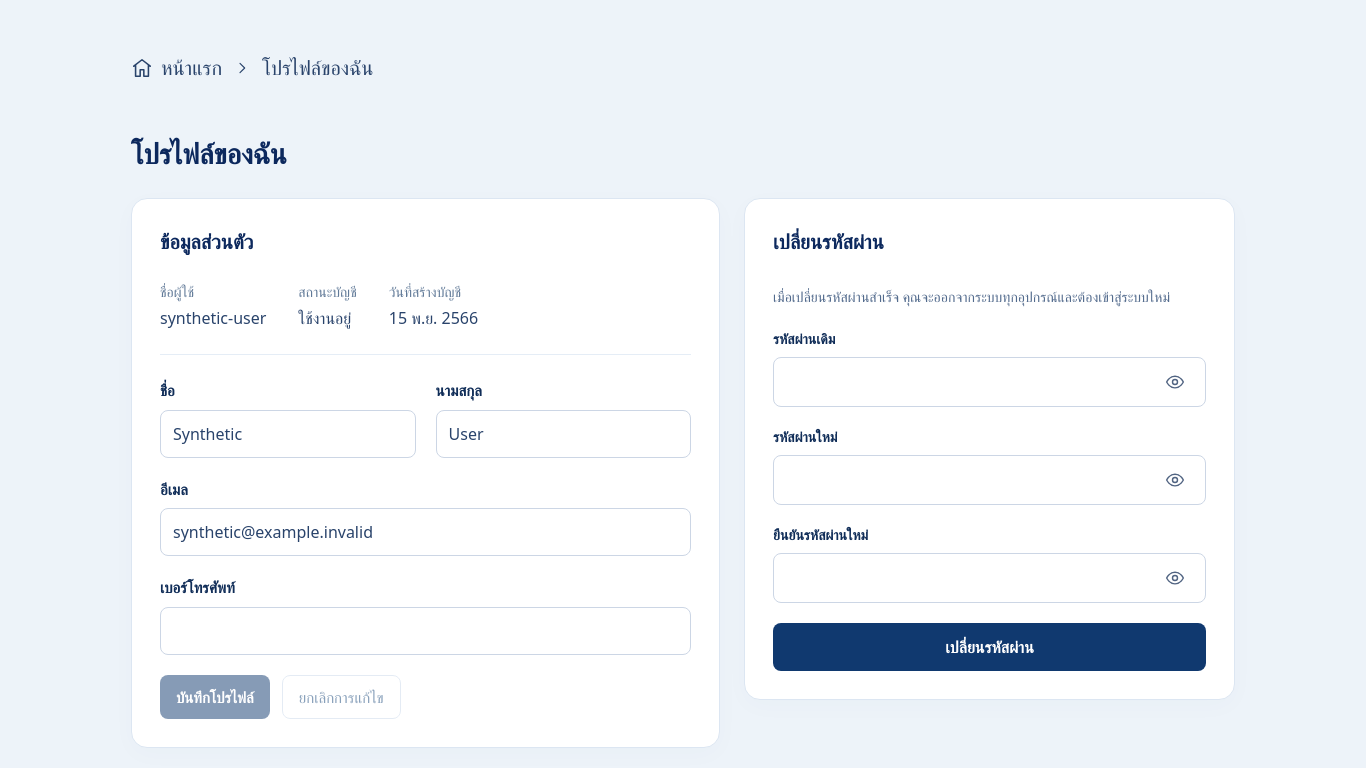
Test: loads the account, discards buffered edits, and saves only editable contract fields
The image size is (1366, 768).
expect the field labelled "เบอร์โทรศัพท์" is empty: met, box [160,606,691,654]
Replace the text in the field labelled "ชื่อ" with "Discard me" at (288, 434), box [160,410,416,458]
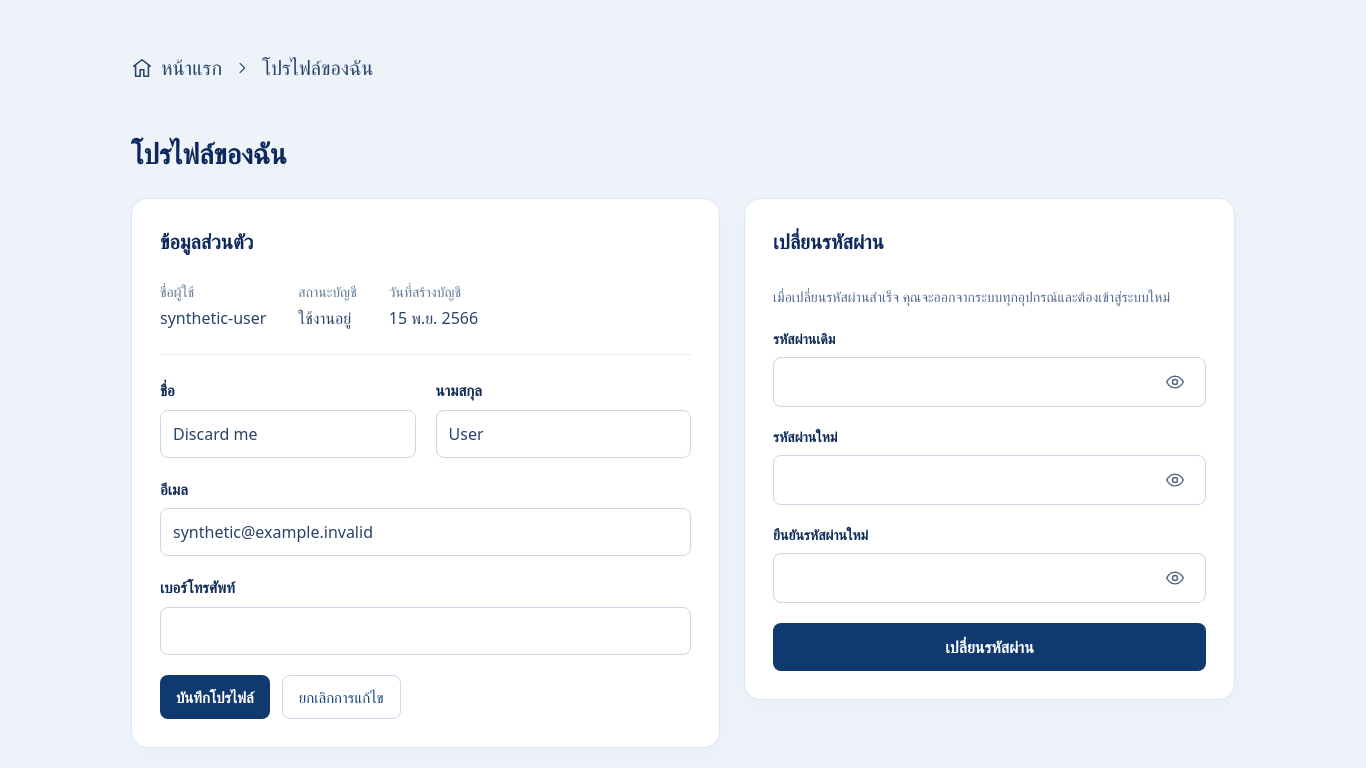
Click the button "ยกเลิกการแก้ไข" at (341, 697), box [282,674,401,719]
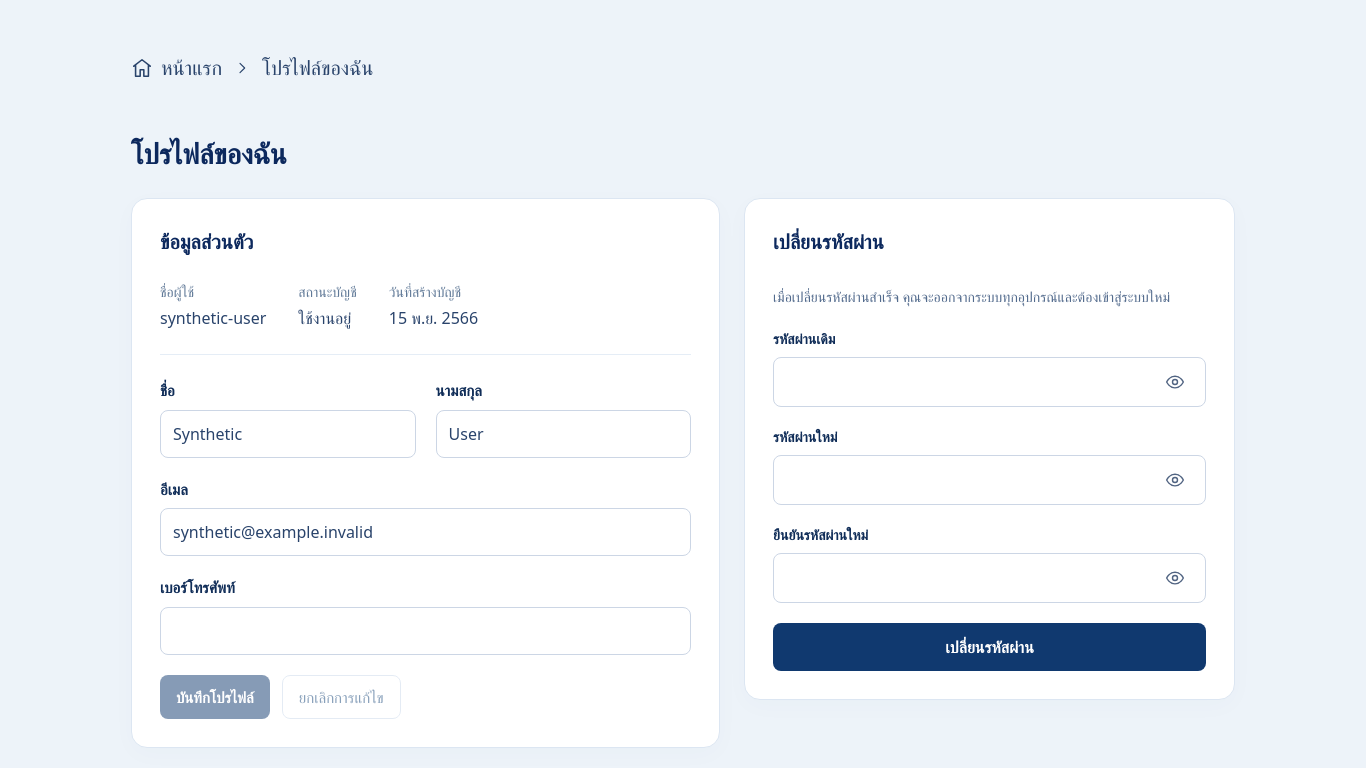
expect the field labelled "ชื่อ" holds "Synthetic": met
Replace the text in the field labelled "ชื่อ" with " Updated " at (288, 434), box [160,410,416,458]
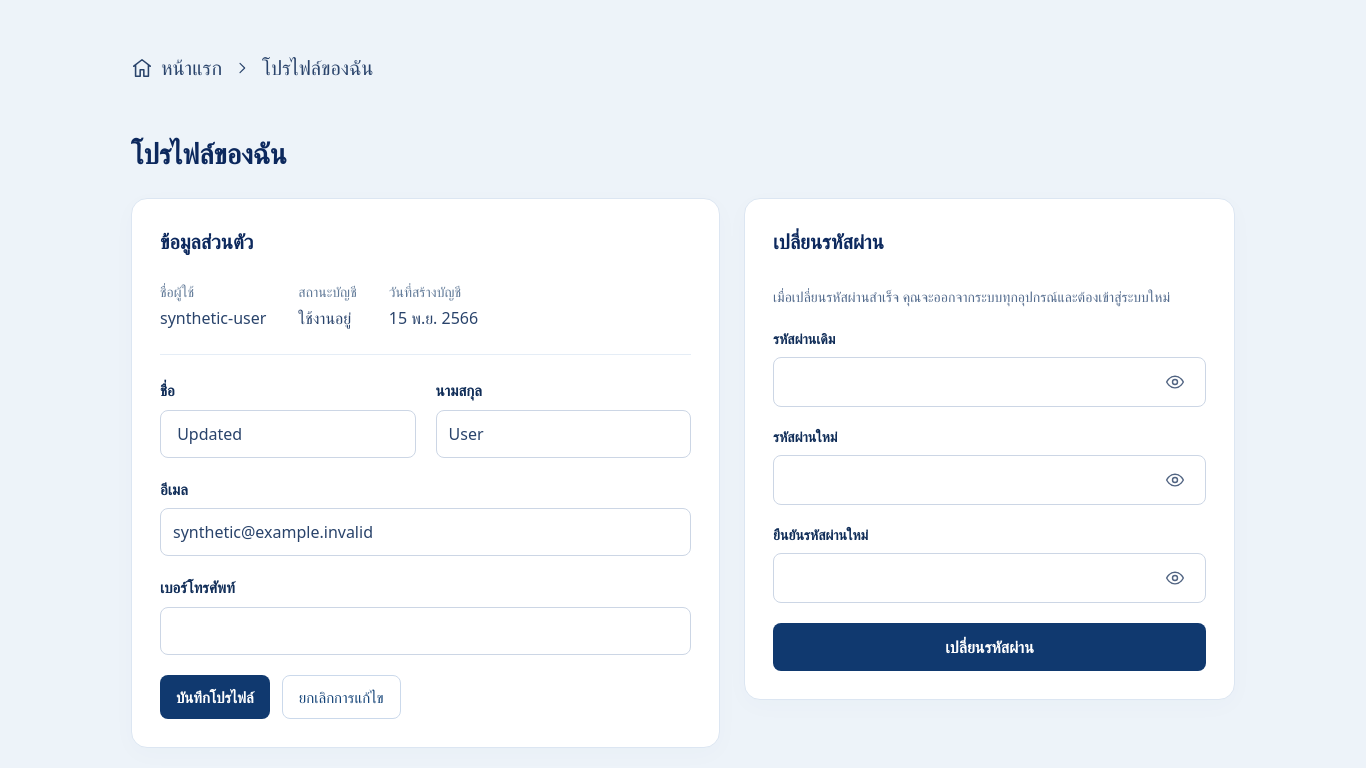
Type "000123" into the field labelled "เบอร์โทรศัพท์" at (426, 630), box [160,606,691,654]
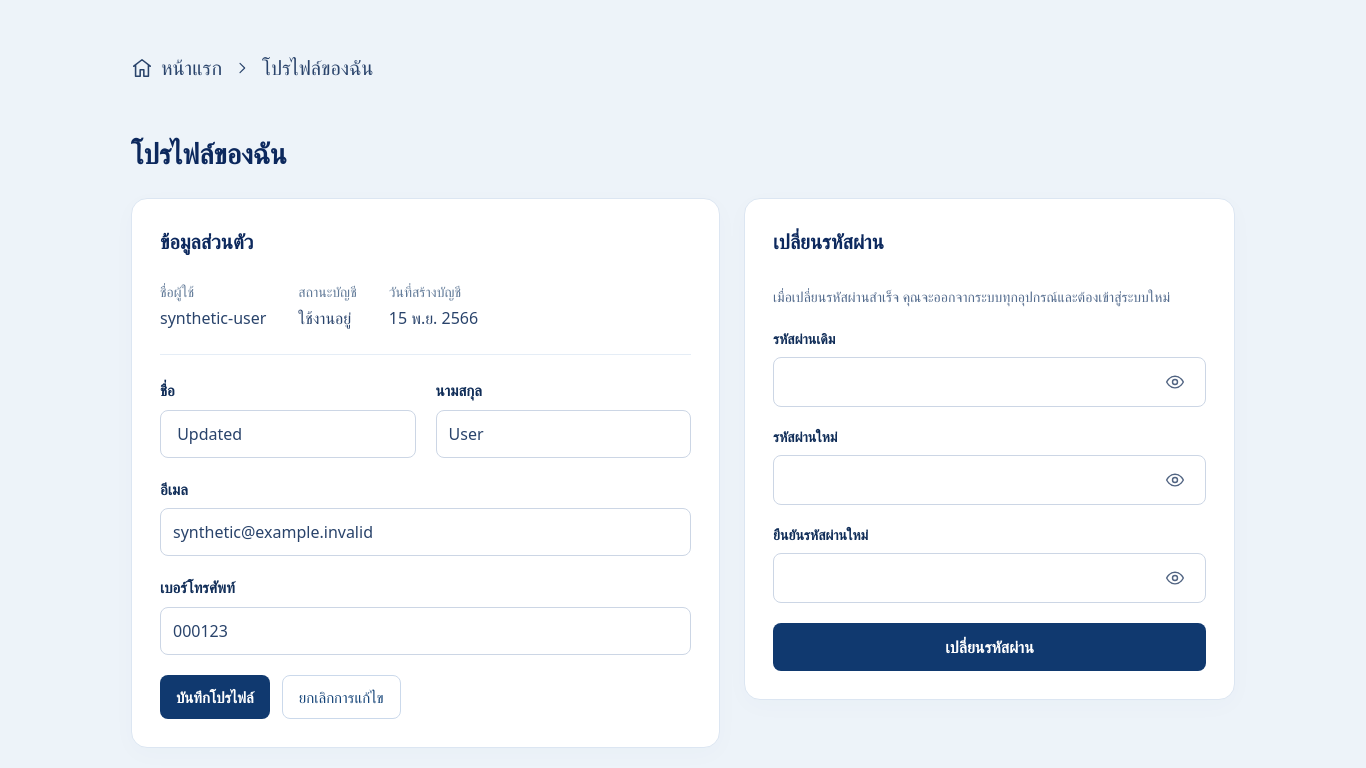
Submit the form named "แก้ไขโปรไฟล์", box [160,379,691,719]
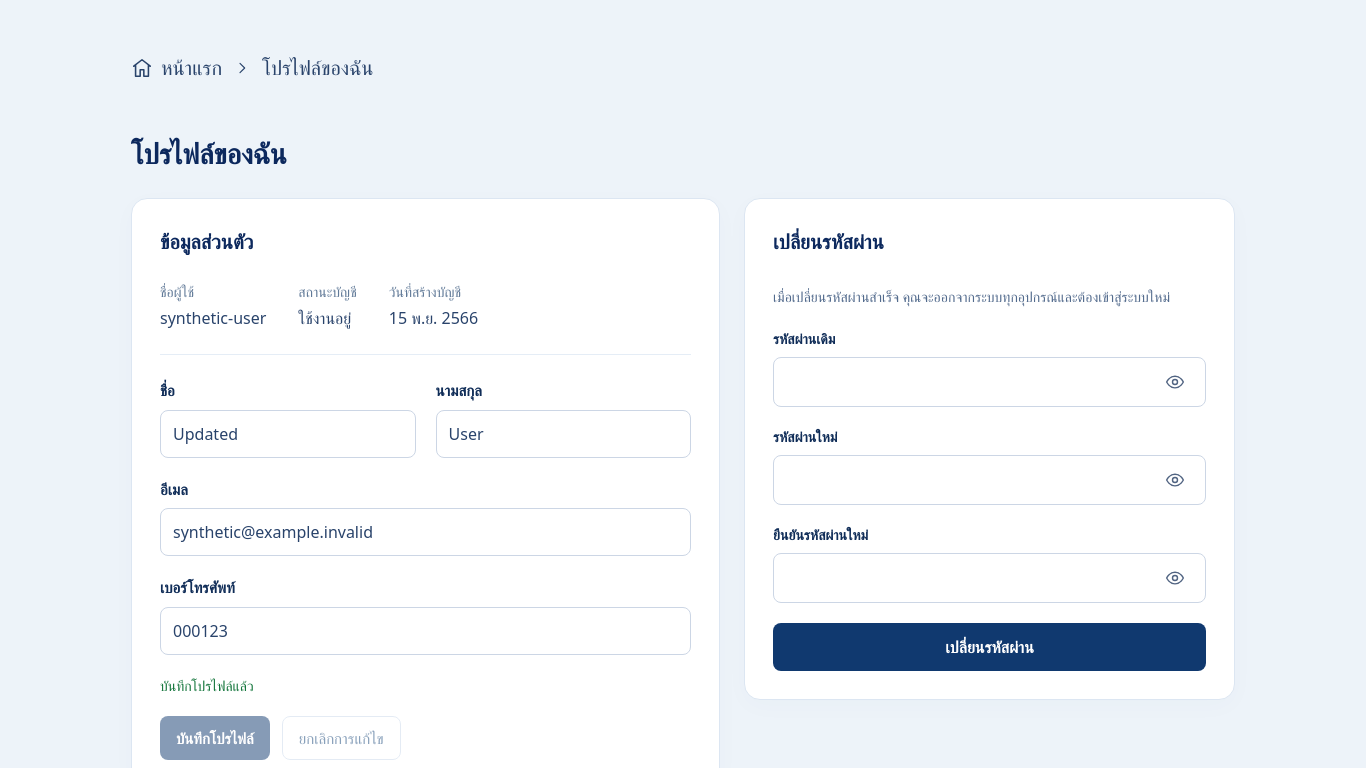
expect the message reads "บันทึกโปรไฟล์แล้ว": met, box [160,676,254,694]
expect the button "บันทึกโปรไฟล์" is disabled: met, box [160,716,270,760]
